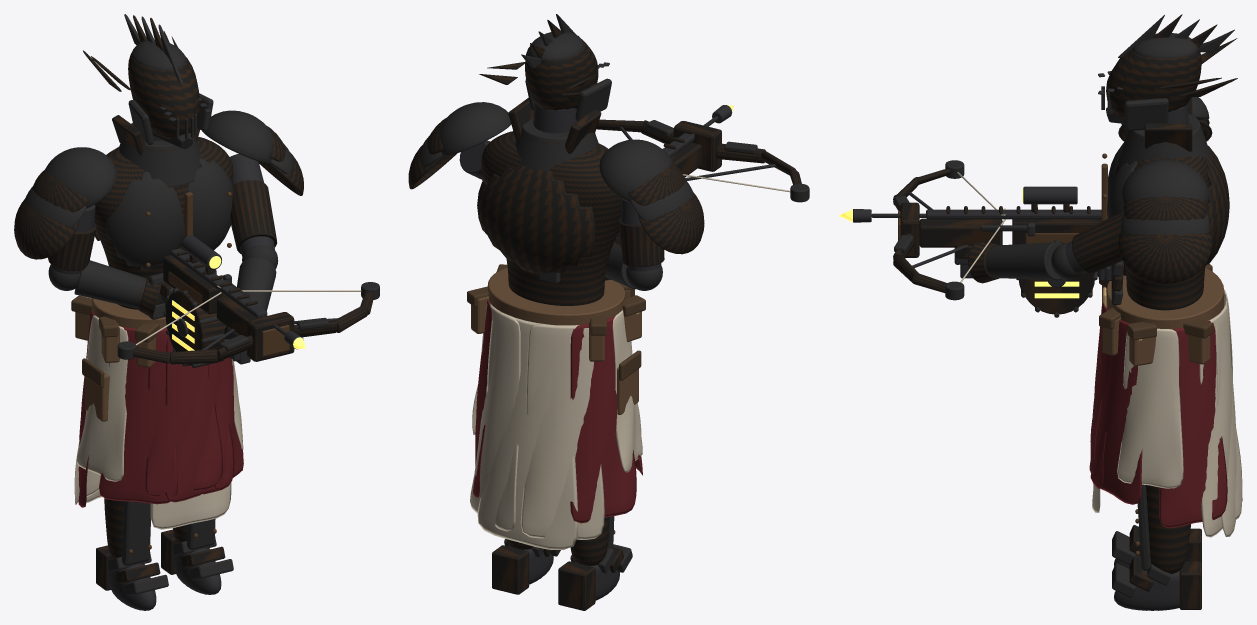
File: tireur_saurus.glb
3 renders of one model, left to right at view 1: azimuth 30°, elevation 25°; view 2: azimuth 150°, elevation 25°; view 3: azimuth 270°, elevation 25°, orthographic. The views are drawn at different scales.
Parts seen in each view (by area): view 1: Acier, AcierGuerre, Cramoisi, Ivoire, NoirMat, Cuir, Rouille, CuirSombre, LueurAmbre; view 2: AcierGuerre, Ivoire, Acier, Cramoisi, Cuir, NoirMat, CuirSombre; view 3: AcierGuerre, Acier, Ivoire, Cramoisi, NoirMat, Cuir, CuirSombre, Rouille, LueurAmbre.
Part boxes in pixels (x1,y1,x2,y2): Acier: (25,14,379,596); AcierGuerre: (14,15,373,590); Cramoisi: (78,310,243,507); Ivoire: (74,285,361,529); NoirMat: (51,97,337,610); Cuir: (75,298,166,421); Rouille: (128,192,289,554); CuirSombre: (71,295,159,387); LueurAmbre: (172,256,305,350); AcierGuerre: (408,20,801,610); Ivoire: (470,174,790,549); Acier: (419,14,809,573); Cramoisi: (473,298,642,523); Cuir: (471,267,641,414); NoirMat: (459,62,775,600); CuirSombre: (467,264,645,380); AcierGuerre: (893,14,1237,609); Acier: (871,15,1234,597); Ivoire: (957,172,1242,537); Cramoisi: (1089,300,1227,528); NoirMat: (853,71,1188,610); Cuir: (1102,267,1224,366); CuirSombre: (1099,264,1212,340); Rouille: (898,153,1139,555); LueurAmbre: (838,189,1079,298).
Bounding box in the file's own units: 1.04 × 2 × 1.27.
Materials: 10 (3 with a texture image).
